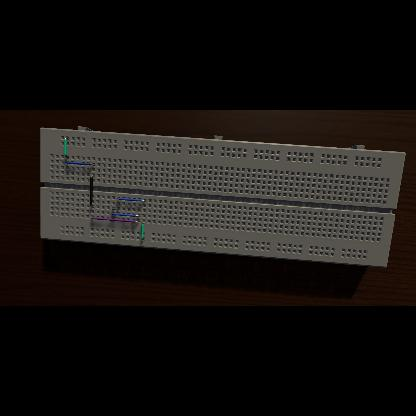breadboard: (40, 126, 406, 268)
wire: (91, 218, 139, 223), (90, 175, 94, 207), (66, 162, 95, 166), (118, 198, 146, 202), (112, 213, 140, 217), (64, 138, 68, 158), (142, 222, 144, 240), (112, 208, 120, 210)
